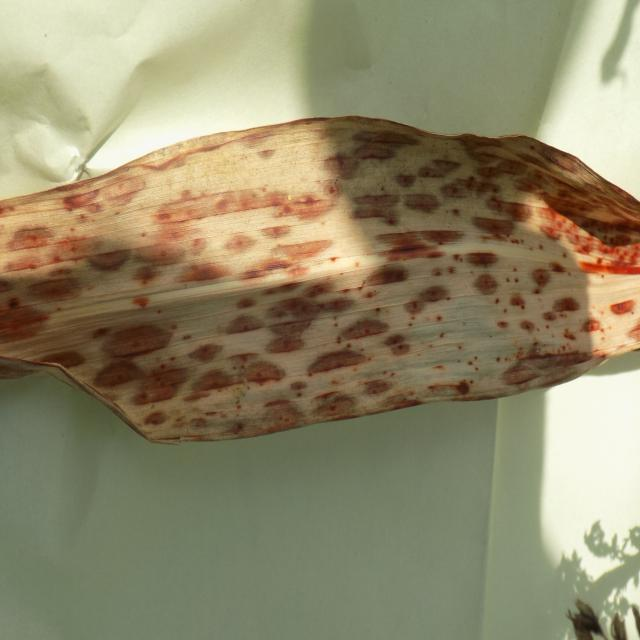millet_rust: (0, 105, 640, 455)
